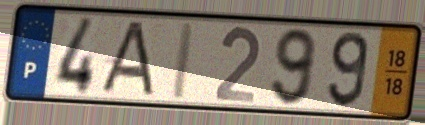2: (212, 24, 263, 106)
4: (52, 15, 98, 97)
9: (268, 26, 318, 110), (326, 30, 371, 110)
A: (94, 20, 158, 99)
I: (167, 19, 199, 103)
